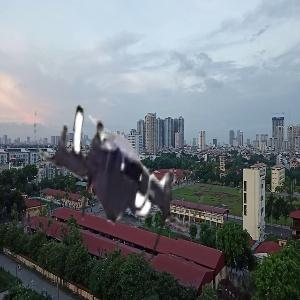drone: (18, 81, 212, 275)
